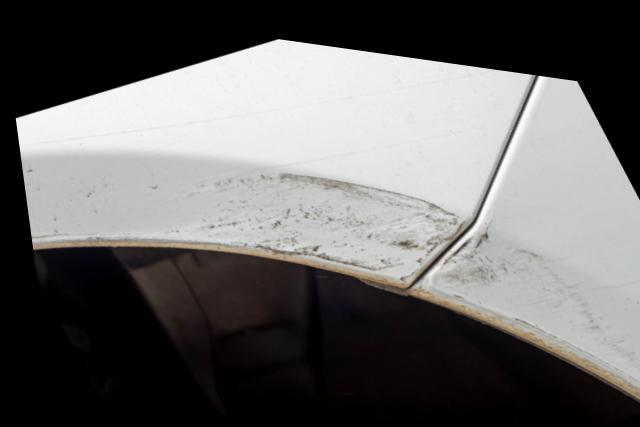scratch: (398, 198, 640, 378), (136, 156, 464, 276)
